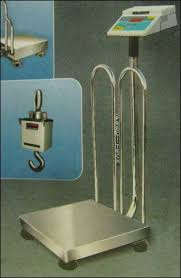Industrial Scale: (18, 3, 179, 271), (1, 1, 48, 68), (18, 89, 54, 175)
